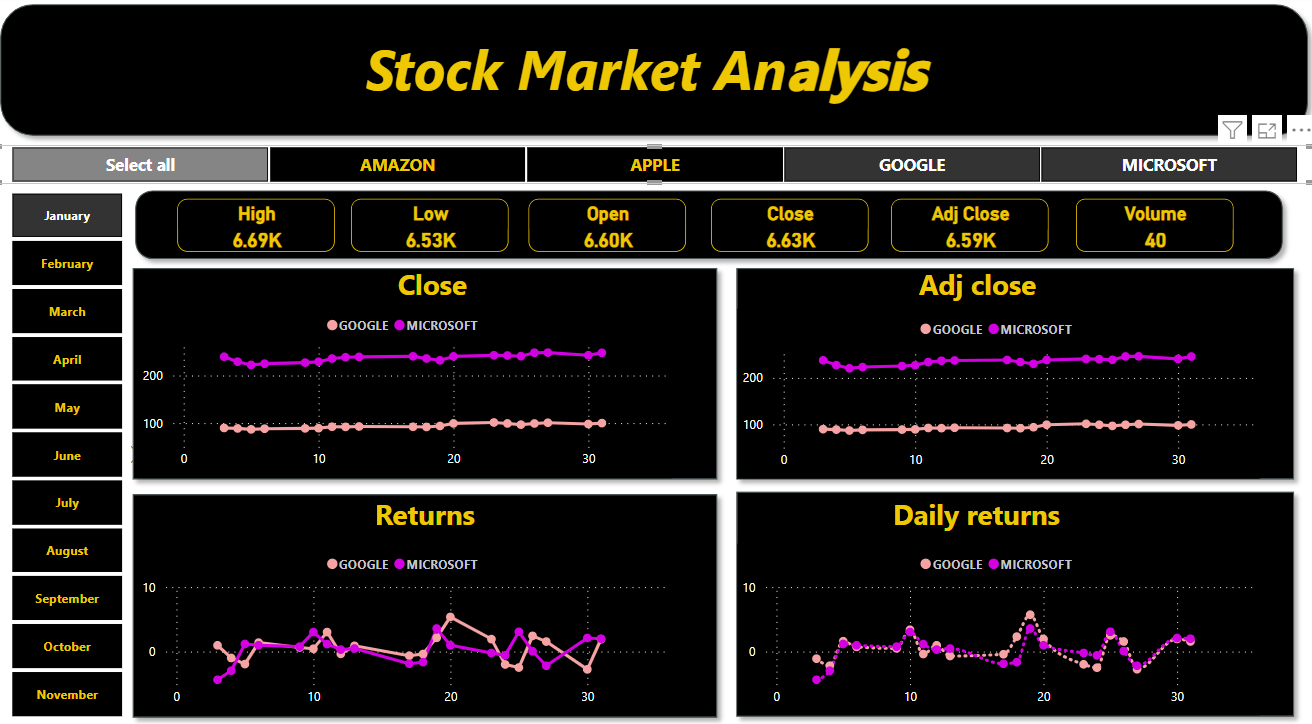

The dashboard page shown, as its layout file describes it:
{"tool":"powerbi","page":{"name":"Page 2","canvas":[1280,720],"ordinal":0},"visuals":[{"type":"shape","box":[0,0,1280,145],"z":0},{"type":"slicer","fields":{"Values":["Table1.company_name"]},"box":[0,145,1279,37.5],"z":1000},{"type":"slicer","fields":{"Values":["Table1.Date.Variation.Date Hierarchy.Month"]},"box":[0,189,145,508],"z":2000},{"type":"shape","box":[128.2,254.9,581.8,221.8],"z":3000},{"type":"textbox","box":[171,28.9,921.1,105.4],"z":4000},{"type":"lineChart","fields":{"Y":["Sum(Table1 (2).Close)"],"Series":["Table1 (2).company_name"],"Category":["Table1 (2).Date.Variation.Date Hierarchy.Day"]},"box":[141.1,299.5,515.5,167],"z":5000},{"type":"textbox","box":[270,256,311,46.1],"z":6000},{"type":"shape","box":[709.9,254.9,555.8,221.8],"z":7000},{"type":"textbox","box":[819.4,256,273,46.1],"z":8000},{"type":"shape","box":[709.9,470.9,555.8,234.7],"z":9000},{"type":"textbox","box":[819.4,477,256.3,46.1],"z":10000},{"type":"lineChart","fields":{"Y":["Sum(Table1 (2).Daily Return)"],"Series":["Table1 (2).company_name"],"Category":["Table1 (2).Date.Variation.Date Hierarchy.Day"]},"box":[720,529.9,504,165.6],"z":11000},{"type":"lineChart","fields":{"Y":["Sum(Table1 (2).Adj Close)"],"Series":["Table1 (2).company_name"],"Category":["Table1 (2).Date.Variation.Date Hierarchy.Day"]},"box":[720,302.4,504,164.2],"z":12000},{"type":"shape","box":[130,180,1125,84],"z":13000},{"type":"card","title":"High","fields":{"Values":["Sum(Table1 (2).High)"]},"box":[180,196,152,51],"z":14000},{"type":"shape","box":[128.2,472.3,581.8,233.3],"z":15000},{"type":"textbox","box":[270.7,477,296.6,46.1],"z":16000},{"type":"lineChart","fields":{"Y":["Sum(Table1 (2).returns)"],"Series":["Table1 (2).company_name"],"Category":["Table1 (2).Date.Variation.Date Hierarchy.Day"]},"box":[141.1,529.9,515.5,165.6],"z":17000},{"type":"card","title":"Low","fields":{"Values":["Sum(Table1 (2).Low)"]},"box":[347,196,152,51],"z":18000},{"type":"card","title":"Open","fields":{"Values":["Sum(Table1 (2).Open)"]},"box":[518.4,196,152,51],"z":19000},{"type":"card","title":"Close","fields":{"Values":["Sum(Table1 (2).Close)"]},"box":[694.1,196,152,51],"z":20000},{"type":"card","title":"Adj Close","fields":{"Values":["Sum(Table1 (2).Adj Close)"]},"box":[868.3,196,152,51],"z":21000},{"type":"card","title":"Volume","fields":{"Values":["CountNonNull(Table1 (2).Volume)"]},"box":[1046.9,196,152,51],"z":22000}]}

Visuals, with their boxes on the page's 1280x720 design canvas (x1, y1, x2, y2). These are canvas units, not pixel positions in the 1312x724 screenshot, which may show the page scaled, cropped or inside an application window:
shape: (left=0, top=0, right=1280, bottom=145)
slicer - Table1.company_name: (left=0, top=145, right=1279, bottom=182)
slicer - Table1.Date.Variation.Date Hierarchy.Month: (left=0, top=189, right=145, bottom=697)
shape: (left=128, top=255, right=710, bottom=477)
textbox: (left=171, top=29, right=1092, bottom=134)
lineChart - Sum(Table1 (2).Close) x Table1 (2).company_name: (left=141, top=300, right=657, bottom=466)
textbox: (left=270, top=256, right=581, bottom=302)
shape: (left=710, top=255, right=1266, bottom=477)
textbox: (left=819, top=256, right=1092, bottom=302)
shape: (left=710, top=471, right=1266, bottom=706)
textbox: (left=819, top=477, right=1076, bottom=523)
lineChart - Sum(Table1 (2).Daily Return) x Table1 (2).company_name: (left=720, top=530, right=1224, bottom=696)
lineChart - Sum(Table1 (2).Adj Close) x Table1 (2).company_name: (left=720, top=302, right=1224, bottom=467)
shape: (left=130, top=180, right=1255, bottom=264)
"High" card: (left=180, top=196, right=332, bottom=247)
shape: (left=128, top=472, right=710, bottom=706)
textbox: (left=271, top=477, right=567, bottom=523)
lineChart - Sum(Table1 (2).returns) x Table1 (2).company_name: (left=141, top=530, right=657, bottom=696)
"Low" card: (left=347, top=196, right=499, bottom=247)
"Open" card: (left=518, top=196, right=670, bottom=247)
"Close" card: (left=694, top=196, right=846, bottom=247)
"Adj Close" card: (left=868, top=196, right=1020, bottom=247)
"Volume" card: (left=1047, top=196, right=1199, bottom=247)
